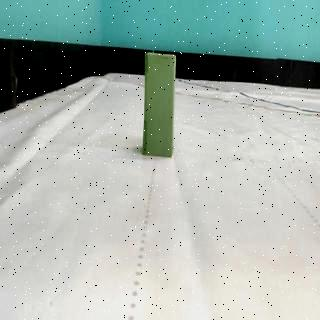greenbox: (142, 50, 177, 158)
